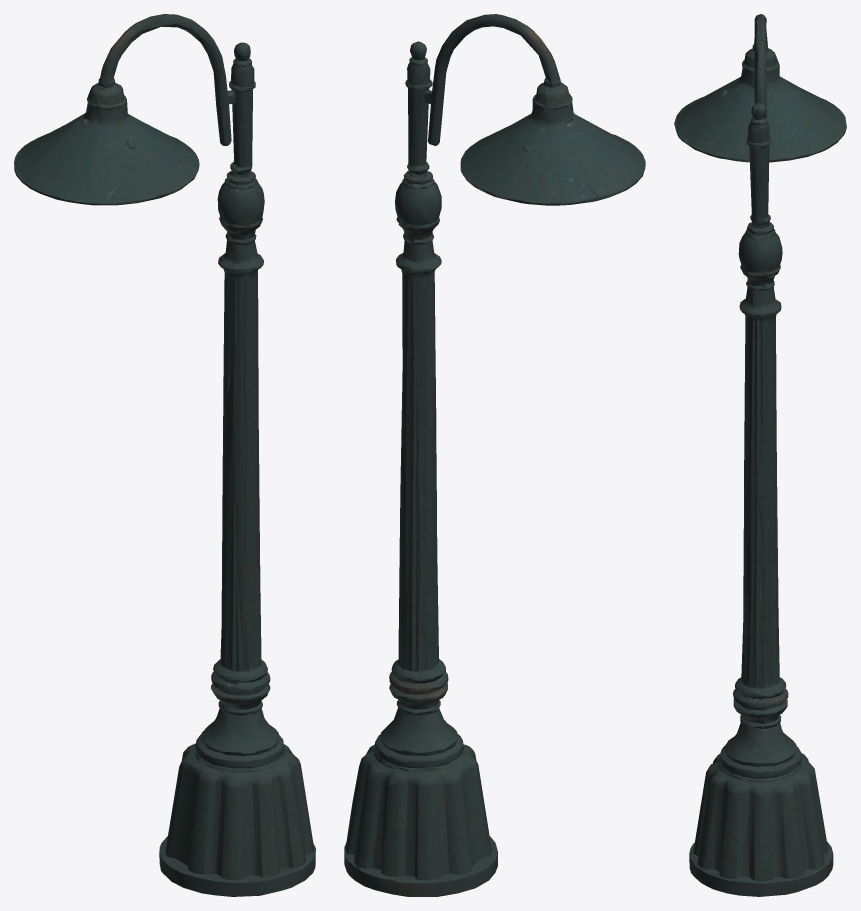
The model's file is street_lamp.glb.
3 renders of one model, left to right at view 1: azimuth 30°, elevation 25°; view 2: azimuth 150°, elevation 25°; view 3: azimuth 270°, elevation 25°, orthographic. The views are drawn at different scales.
Parts seen in each view (by area): view 1: main; view 2: main; view 3: main.
Part boxes in pixels (left/top/right/bottom): main: left=14, top=14, right=315, bottom=896; main: left=344, top=14, right=645, bottom=896; main: left=674, top=14, right=846, bottom=896.
Bounding box in the file's own units: 1.42 × 4.23 × 0.8174.
1 material, 1 textured.
